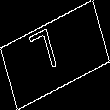L_S: (38, 26, 72, 84)
